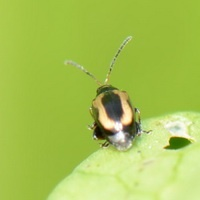insect: (64, 36, 140, 150)
